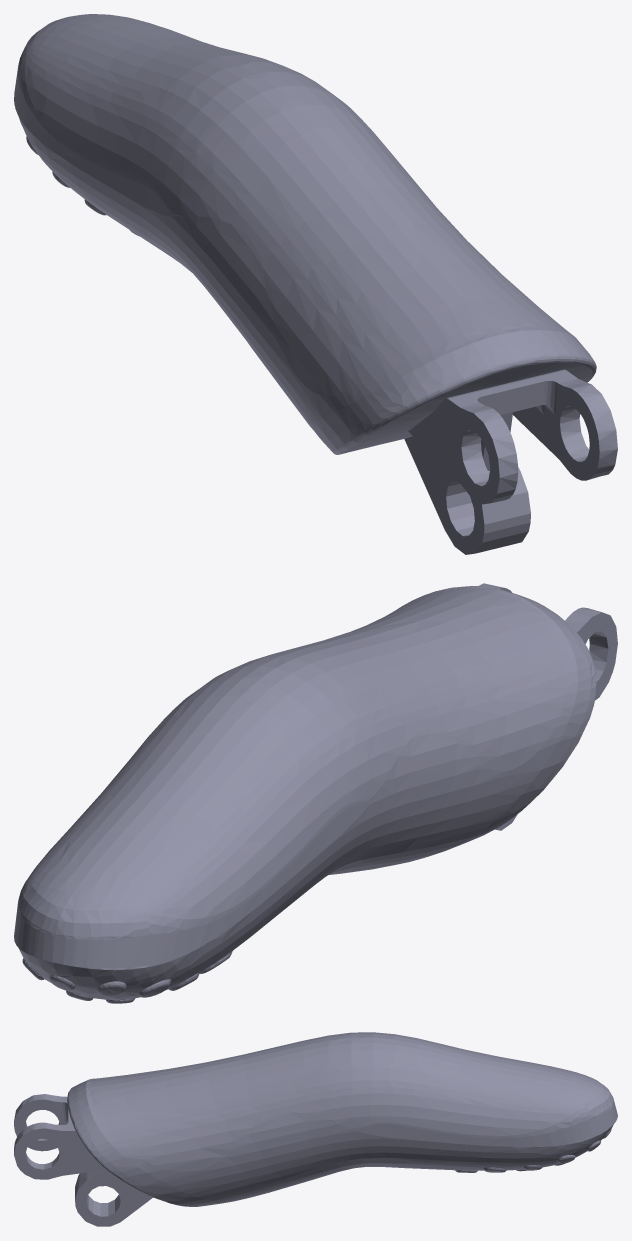
Rendered from hand1_link_4_2_visuals.obj.
3 renders of one model, top to bottom at view 1: azimuth 30°, elevation 25°; view 2: azimuth 150°, elevation 25°; view 3: azimuth 270°, elevation 25°, orthographic. The views are drawn at different scales.
Size of the model in its own units: 0.0136 by 0.0176 by 0.0527.
